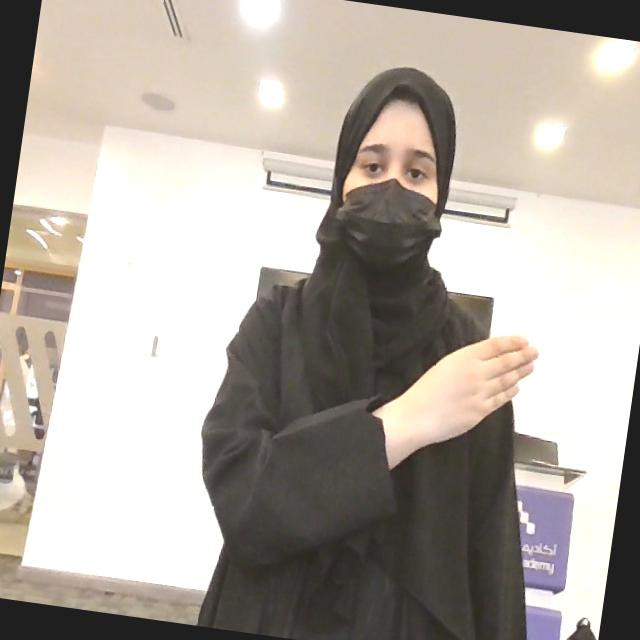result: (372, 313, 544, 469)
